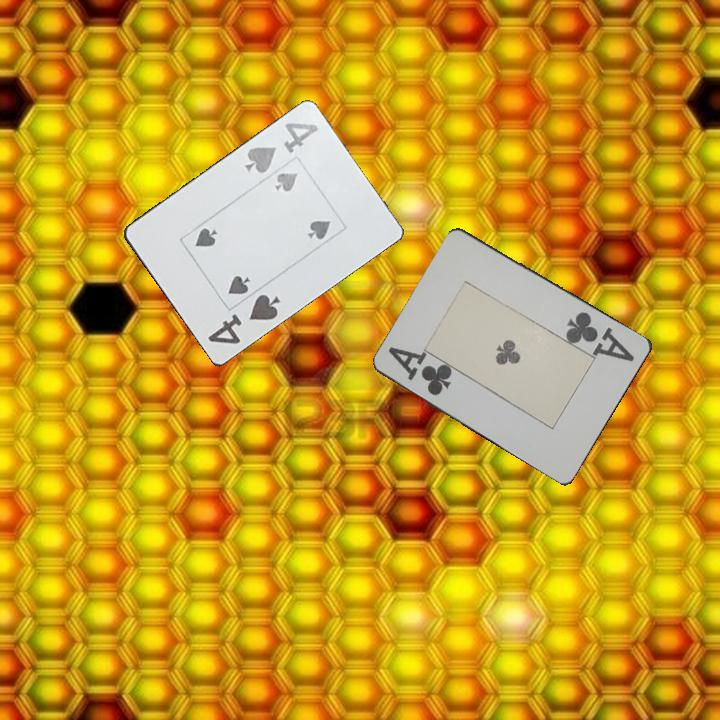4s: (204, 291, 286, 348), (242, 118, 321, 177)
Ac: (563, 308, 638, 365), (385, 343, 455, 400)
